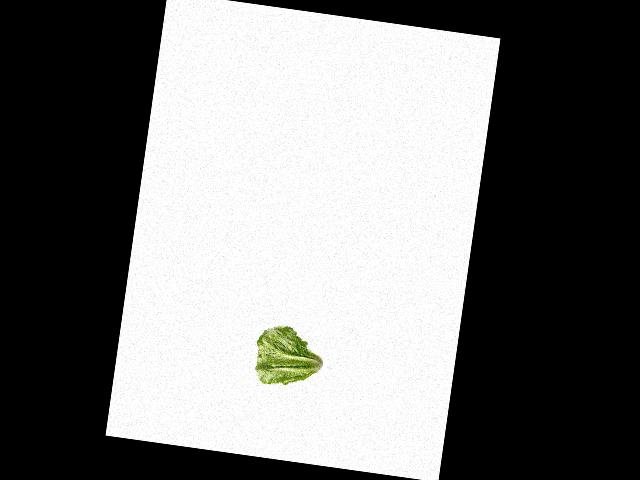lettuce: (250, 320, 331, 389)
